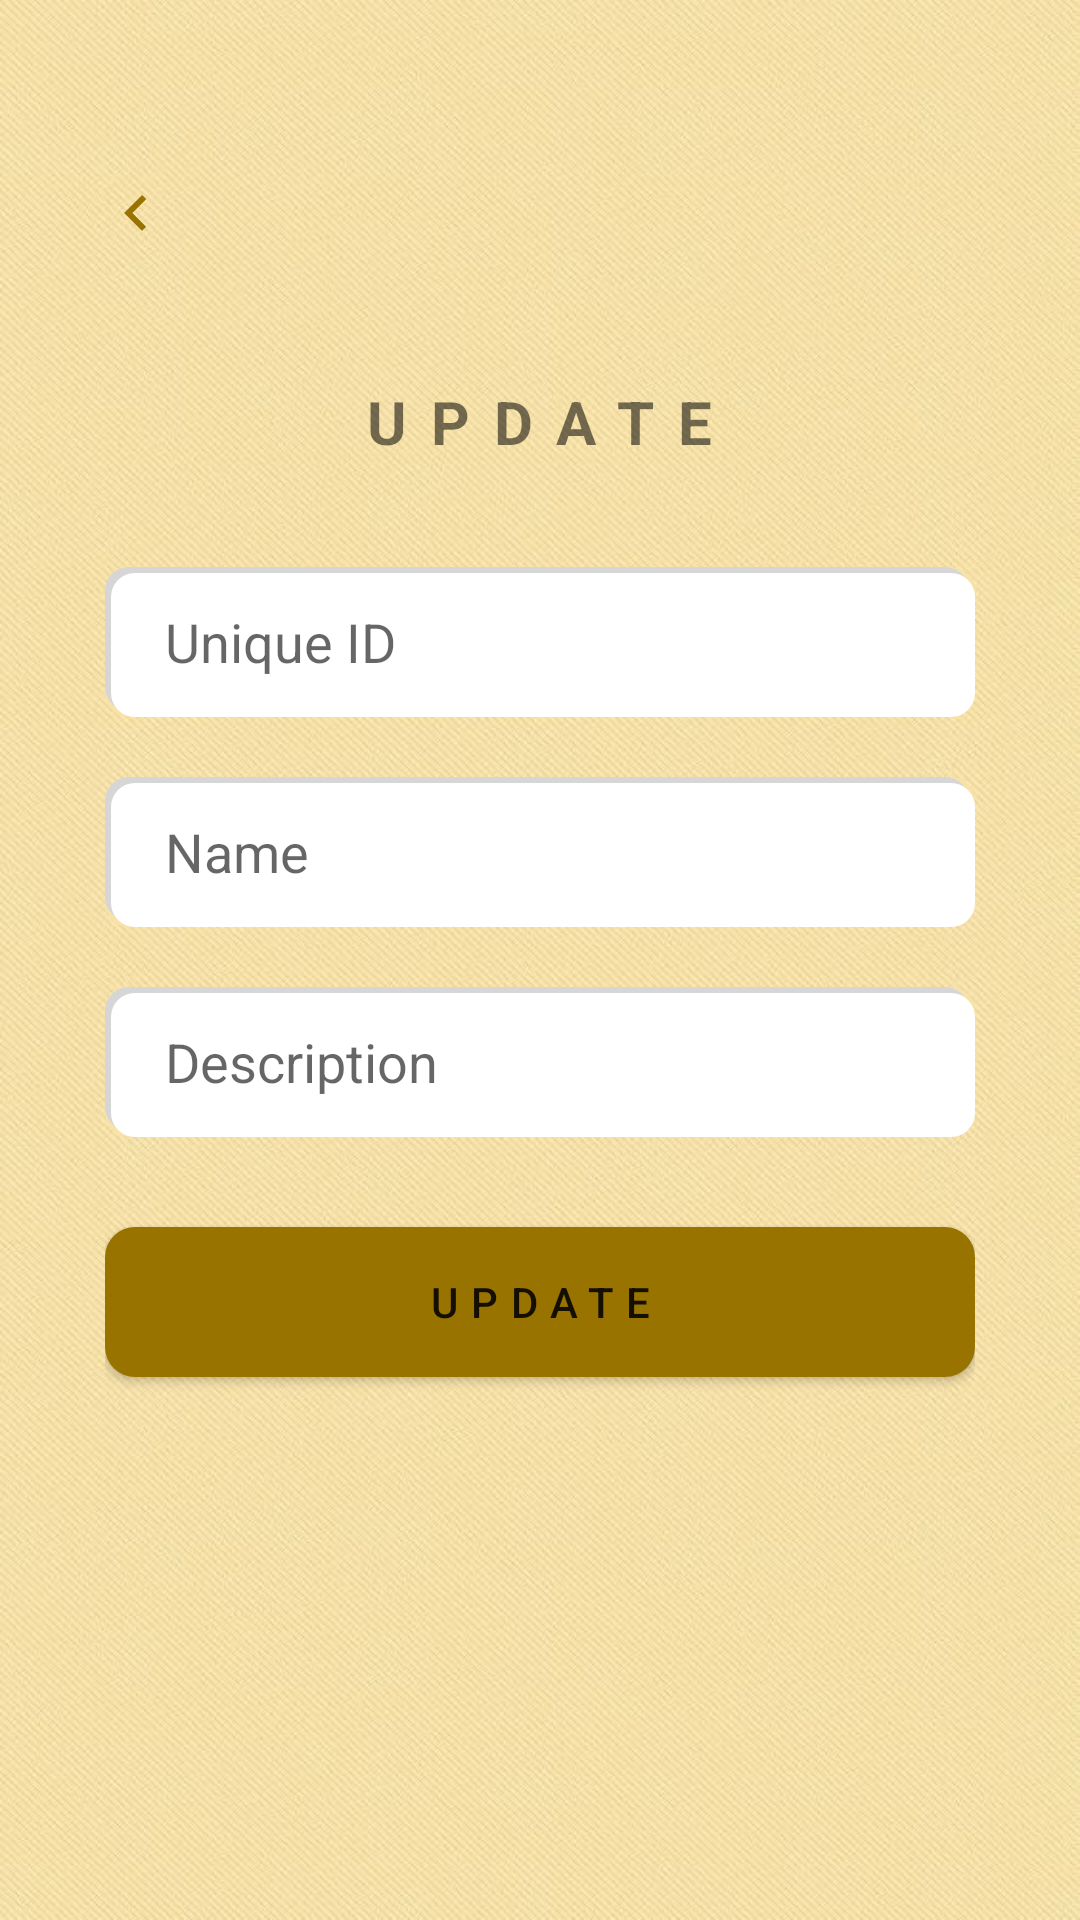

Icon bounding boxes for this 1080x1920 phone screenshot, format [x1, y1, x2, y2]:
keyboard arrow left: [124, 195, 146, 231]
